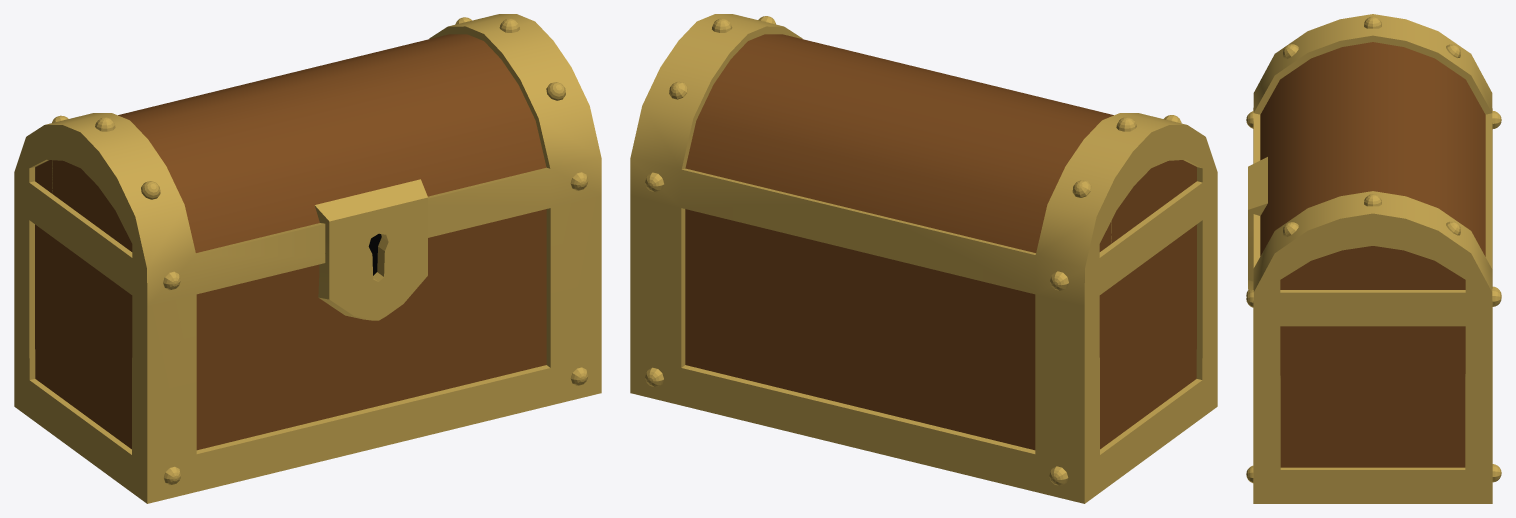
Rendered from Treasure Chest.fbx.
3 views of the same model, side by side, from view 1: azimuth 30°, elevation 25°; view 2: azimuth 150°, elevation 25°; view 3: azimuth 270°, elevation 25° (orthographic). The views are drawn at different scales.
Visible parts, largest first — view 1: pCube1, pPlane1; view 2: pCube1; view 3: pCube1, pPlane1.
Boxes of the visible parts, <box> form: pCube1: <box>14,14,601,503</box>; pPlane1: <box>314,179,427,320</box>; pCube1: <box>630,14,1217,503</box>; pCube1: <box>1253,14,1492,503</box>; pPlane1: <box>1248,157,1267,290</box>.
Size of the model in its own units: 10.33 by 7.19 by 5.59.
